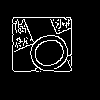O: (25, 25, 82, 78)
